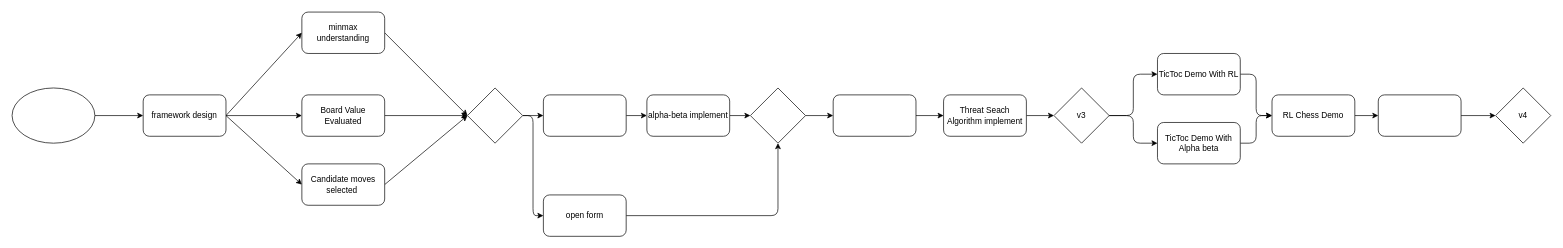
Image size: 1563x248. Some labels were removed from this diagram. The shapes that lost their labels are listed below. From the top down, each one's centre as x and y in pixels, then its label:
At [53,115]: "start".
At [495,115]: "v1".
At [584,115]: "alpha-beta understanding".
At [778,115]: "v2".
At [874,115]: "Threat Seach Algorithm understand".
At [1419,115]: "Gomoku With RL".
